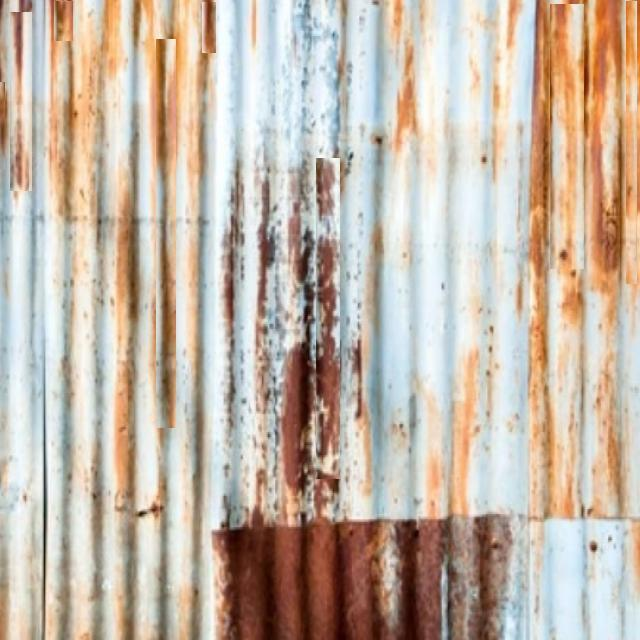Corrosion: (213, 521, 467, 640), (468, 517, 528, 640), (246, 173, 271, 412), (316, 219, 340, 461), (281, 344, 310, 492), (316, 158, 340, 216)
